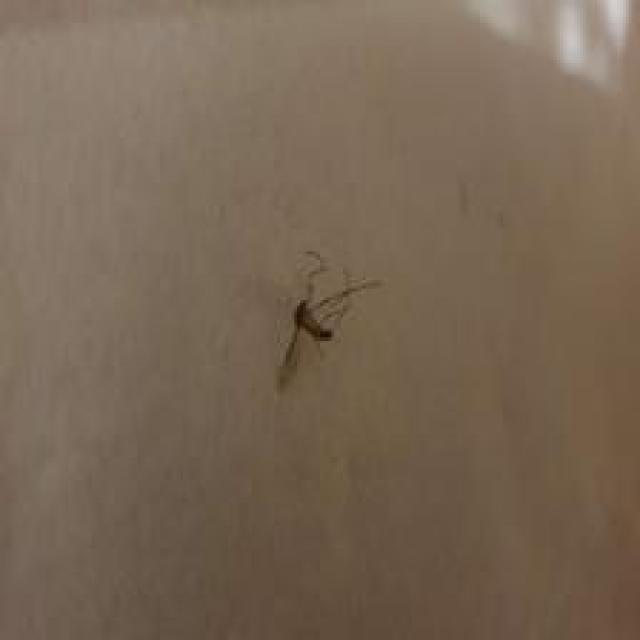Culex: (271, 247, 383, 393)
